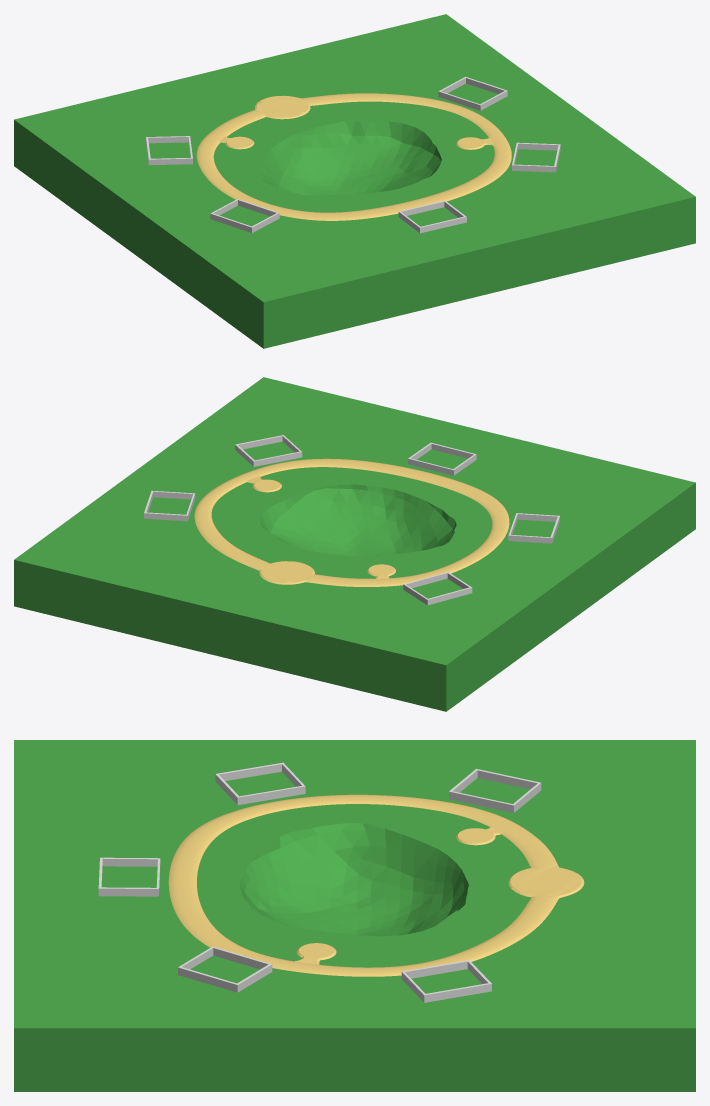
The model's file is zoo_v3.fbx.
3 views of the same model, one above another, from view 1: azimuth 30°, elevation 25°; view 2: azimuth 150°, elevation 25°; view 3: azimuth 270°, elevation 25° (orthographic). The views are drawn at different scales.
Visible parts, largest first — view 1: Ground, Path, Fence5, Fence2, Fence3, Fence4, Fence1; view 2: Ground, Path, Fence1, Fence3, Fence4, Fence2, Fence5; view 3: Ground, Path, Fence4, Fence1, Fence5, Fence2, Fence3.
Part boxes in pixels (x1=…): Ground: x1=14, y1=14, x2=695, y2=348; Path: x1=196, y1=93, x2=511, y2=220; Fence5: x1=438, y1=76, x2=507, y2=110; Fence2: x1=210, y1=199, x2=279, y2=232; Fence3: x1=398, y1=200, x2=466, y2=233; Fence4: x1=512, y1=142, x2=560, y2=172; Fence1: x1=146, y1=136, x2=192, y2=165; Ground: x1=14, y1=377, x2=695, y2=711; Path: x1=194, y1=458, x2=509, y2=586; Fence1: x1=403, y1=572, x2=472, y2=605; Fence3: x1=408, y1=442, x2=476, y2=475; Fence4: x1=235, y1=435, x2=302, y2=466; Fence2: x1=508, y1=513, x2=559, y2=543; Fence5: x1=144, y1=490, x2=195, y2=521; Ground: x1=14, y1=740, x2=695, y2=1091; Path: x1=168, y1=794, x2=584, y2=976; Fence4: x1=178, y1=946, x2=272, y2=992; Fence1: x1=449, y1=769, x2=541, y2=812; Fence5: x1=401, y1=960, x2=491, y2=1002; Fence2: x1=215, y1=762, x2=305, y2=805; Fence3: x1=98, y1=857, x2=160, y2=896.
Size of the model in its own units: 5507 by 634 by 5507.
